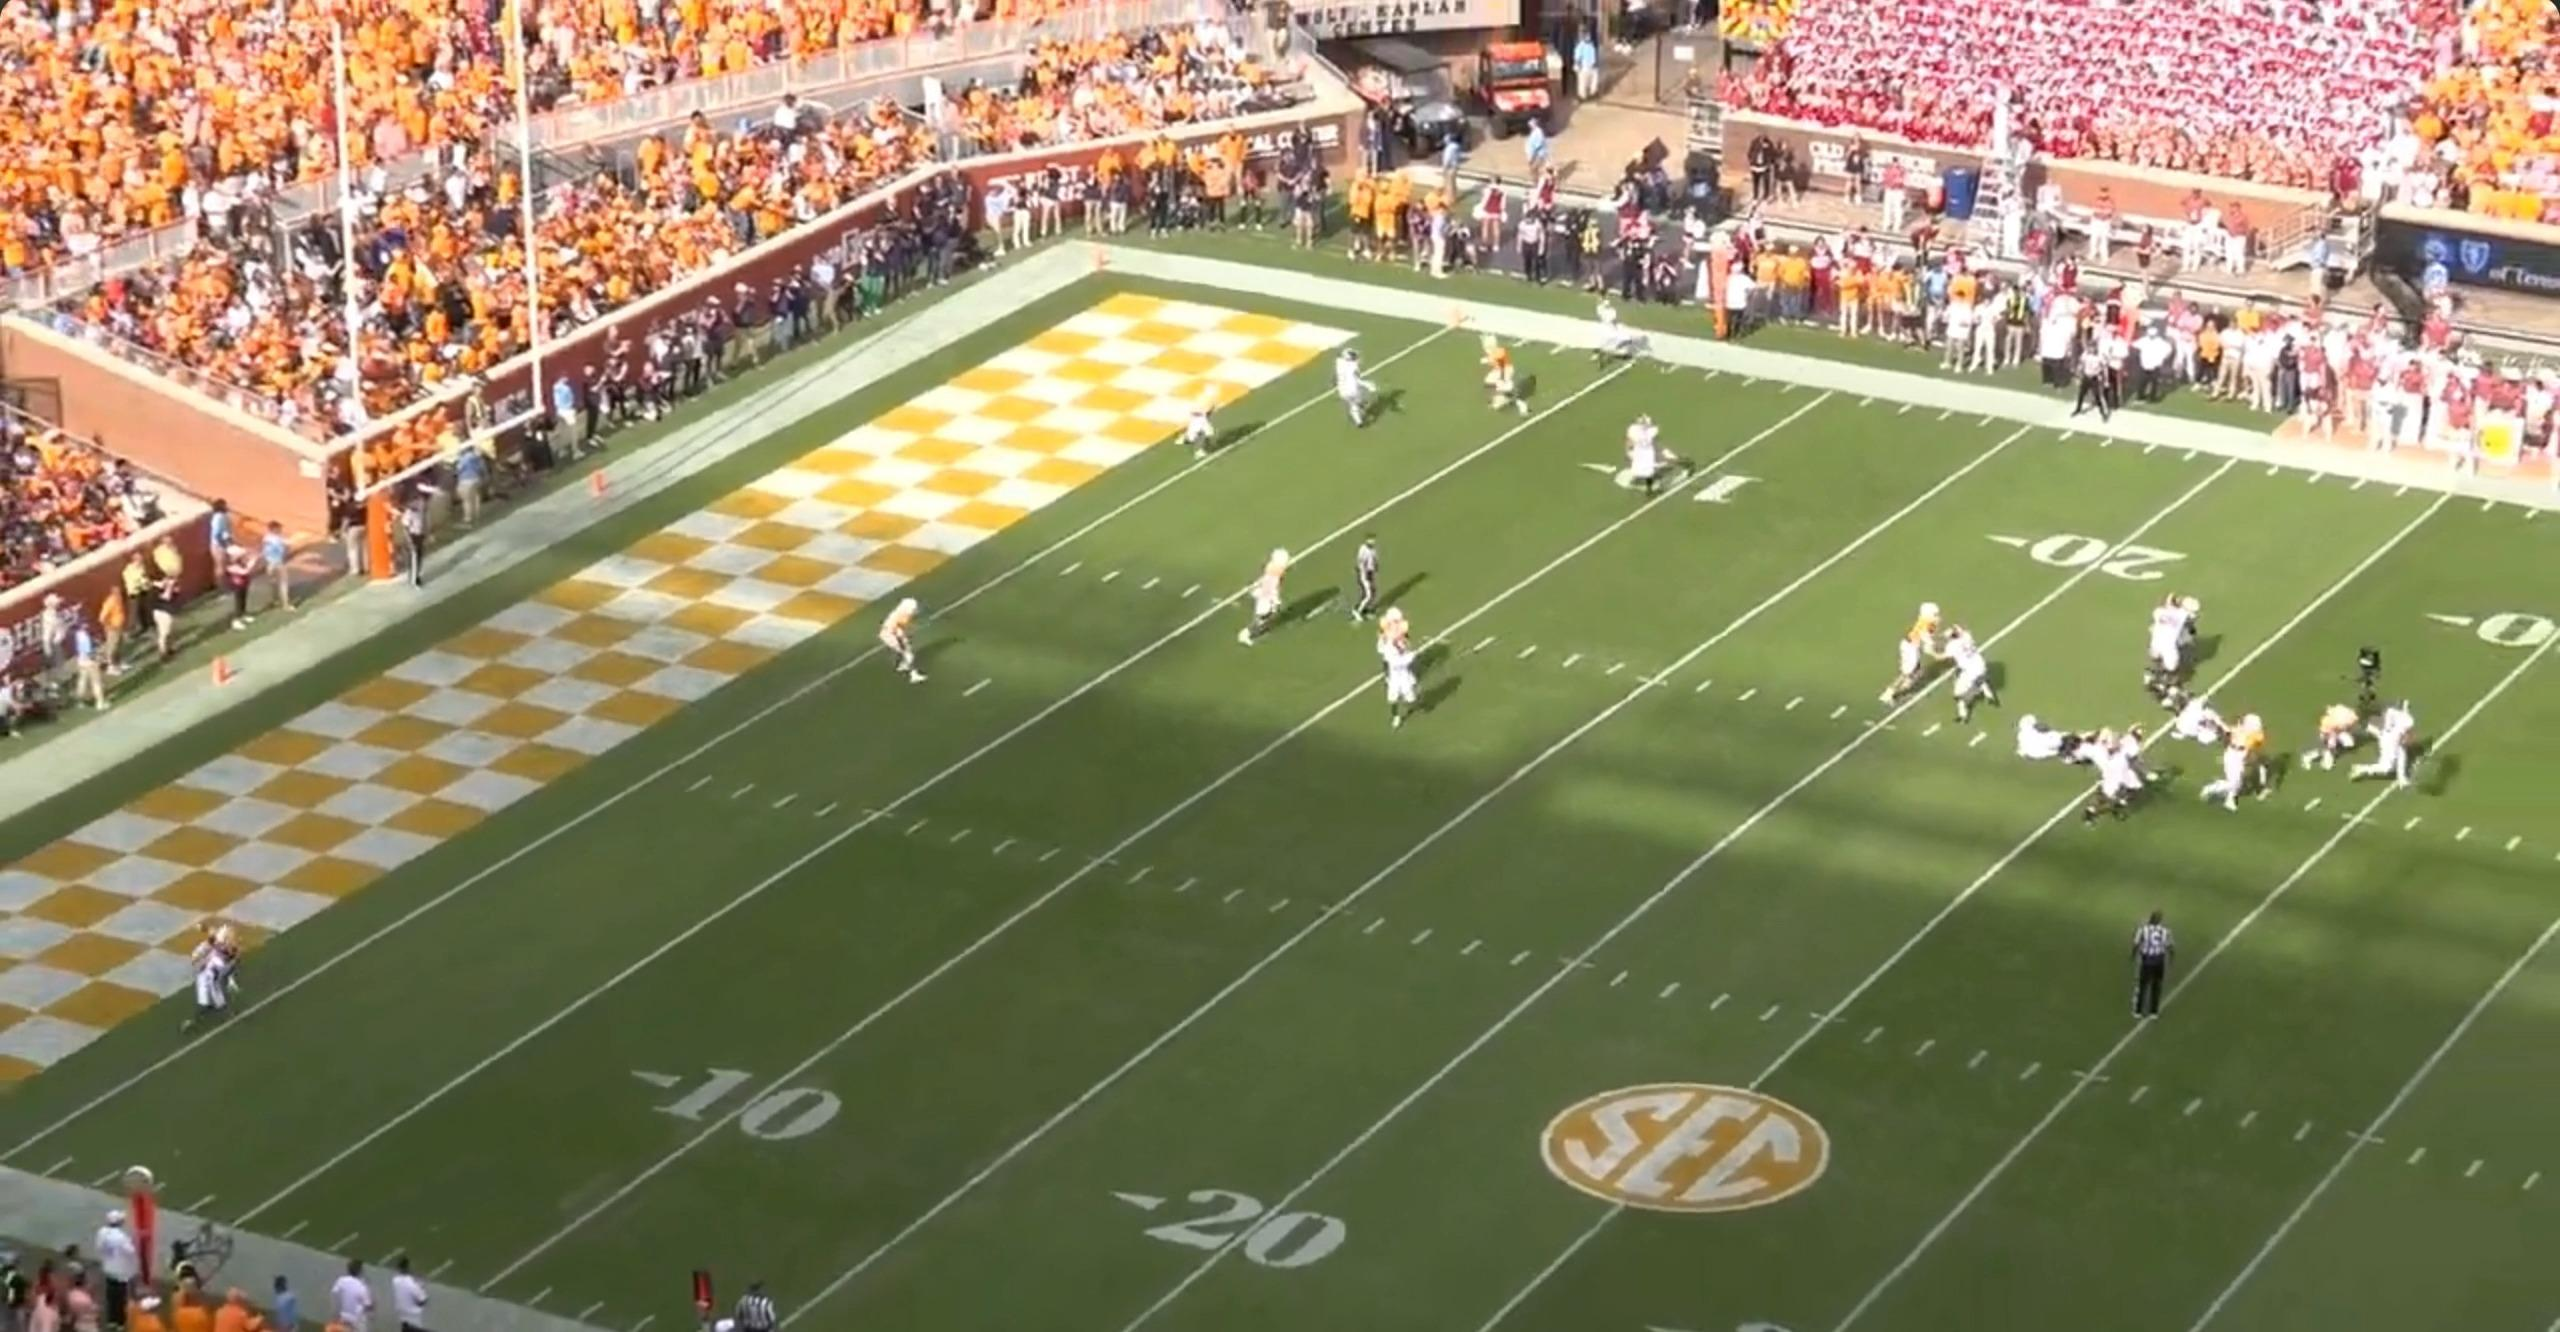player: (2072, 725, 2158, 826), (2191, 716, 2269, 816), (1933, 623, 2002, 725), (1889, 598, 1953, 706), (189, 939, 252, 1044), (2367, 703, 2429, 799), (1242, 543, 1298, 647), (2134, 596, 2189, 701), (1584, 295, 1648, 376), (1611, 411, 1671, 497), (2007, 709, 2096, 766), (2299, 705, 2370, 775), (1376, 636, 1423, 734), (876, 593, 925, 686), (1480, 339, 1534, 423), (188, 916, 258, 978), (2163, 692, 2234, 751), (2167, 587, 2212, 674), (1327, 344, 1372, 430), (1174, 387, 1218, 465), (1367, 606, 1432, 657)
ref: (2125, 907, 2181, 1026), (2068, 331, 2120, 429), (724, 1272, 787, 1331), (1341, 532, 1379, 625)
